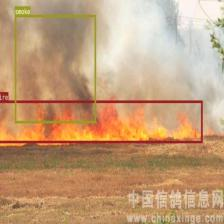fire: (0, 100, 202, 142)
smoke: (15, 15, 96, 122)
